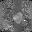people: (13, 12, 23, 23)
